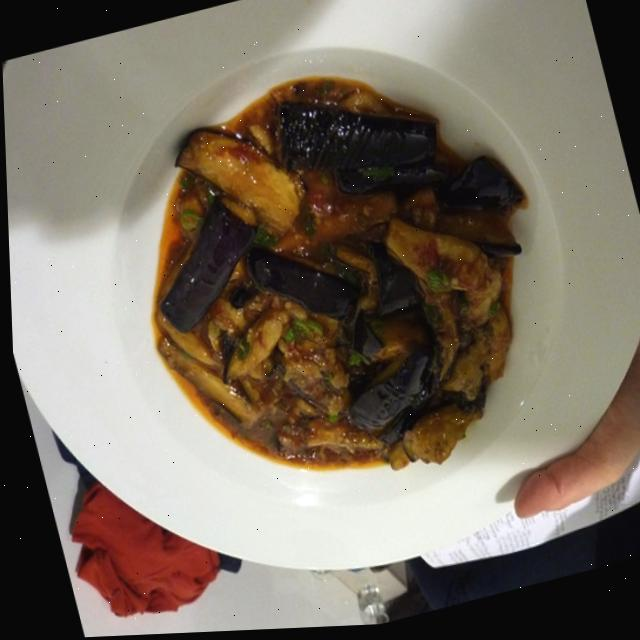鸡蛋料理: (83, 18, 599, 554)
